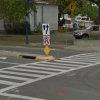Crosswalk: (4, 48, 94, 90)
